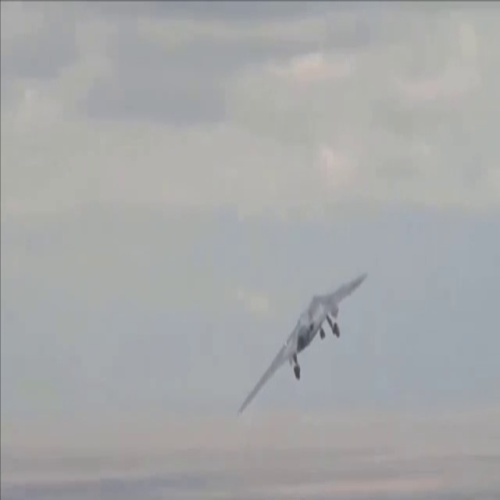uav: (236, 265, 367, 416)
